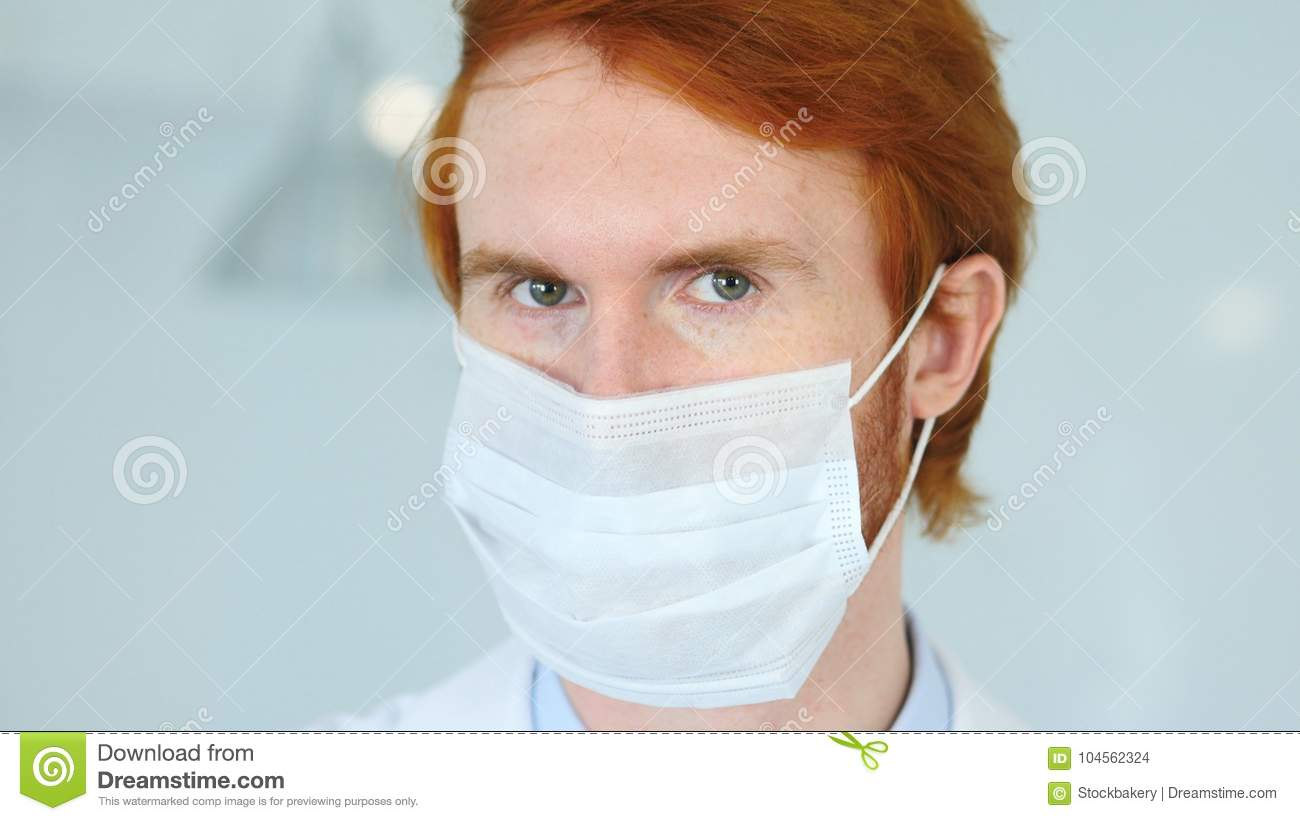mask: (454, 335, 882, 687)
